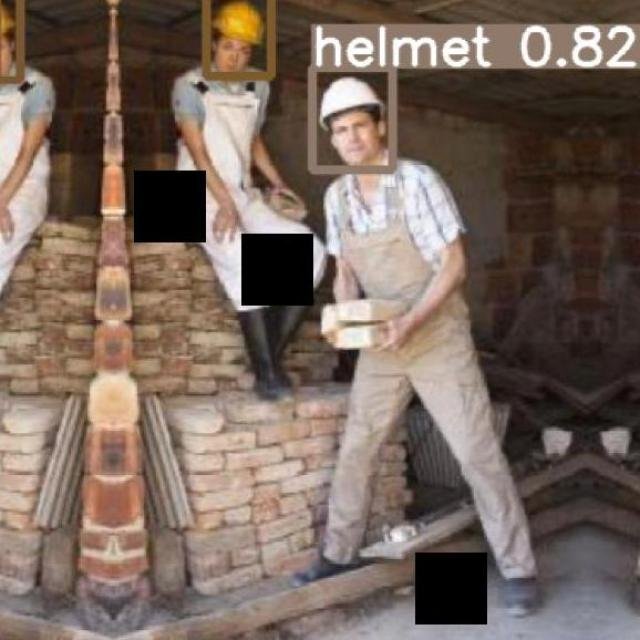white helmet: (316, 76, 397, 136)
yellow helmet: (210, 3, 274, 63), (1, 1, 25, 77)
